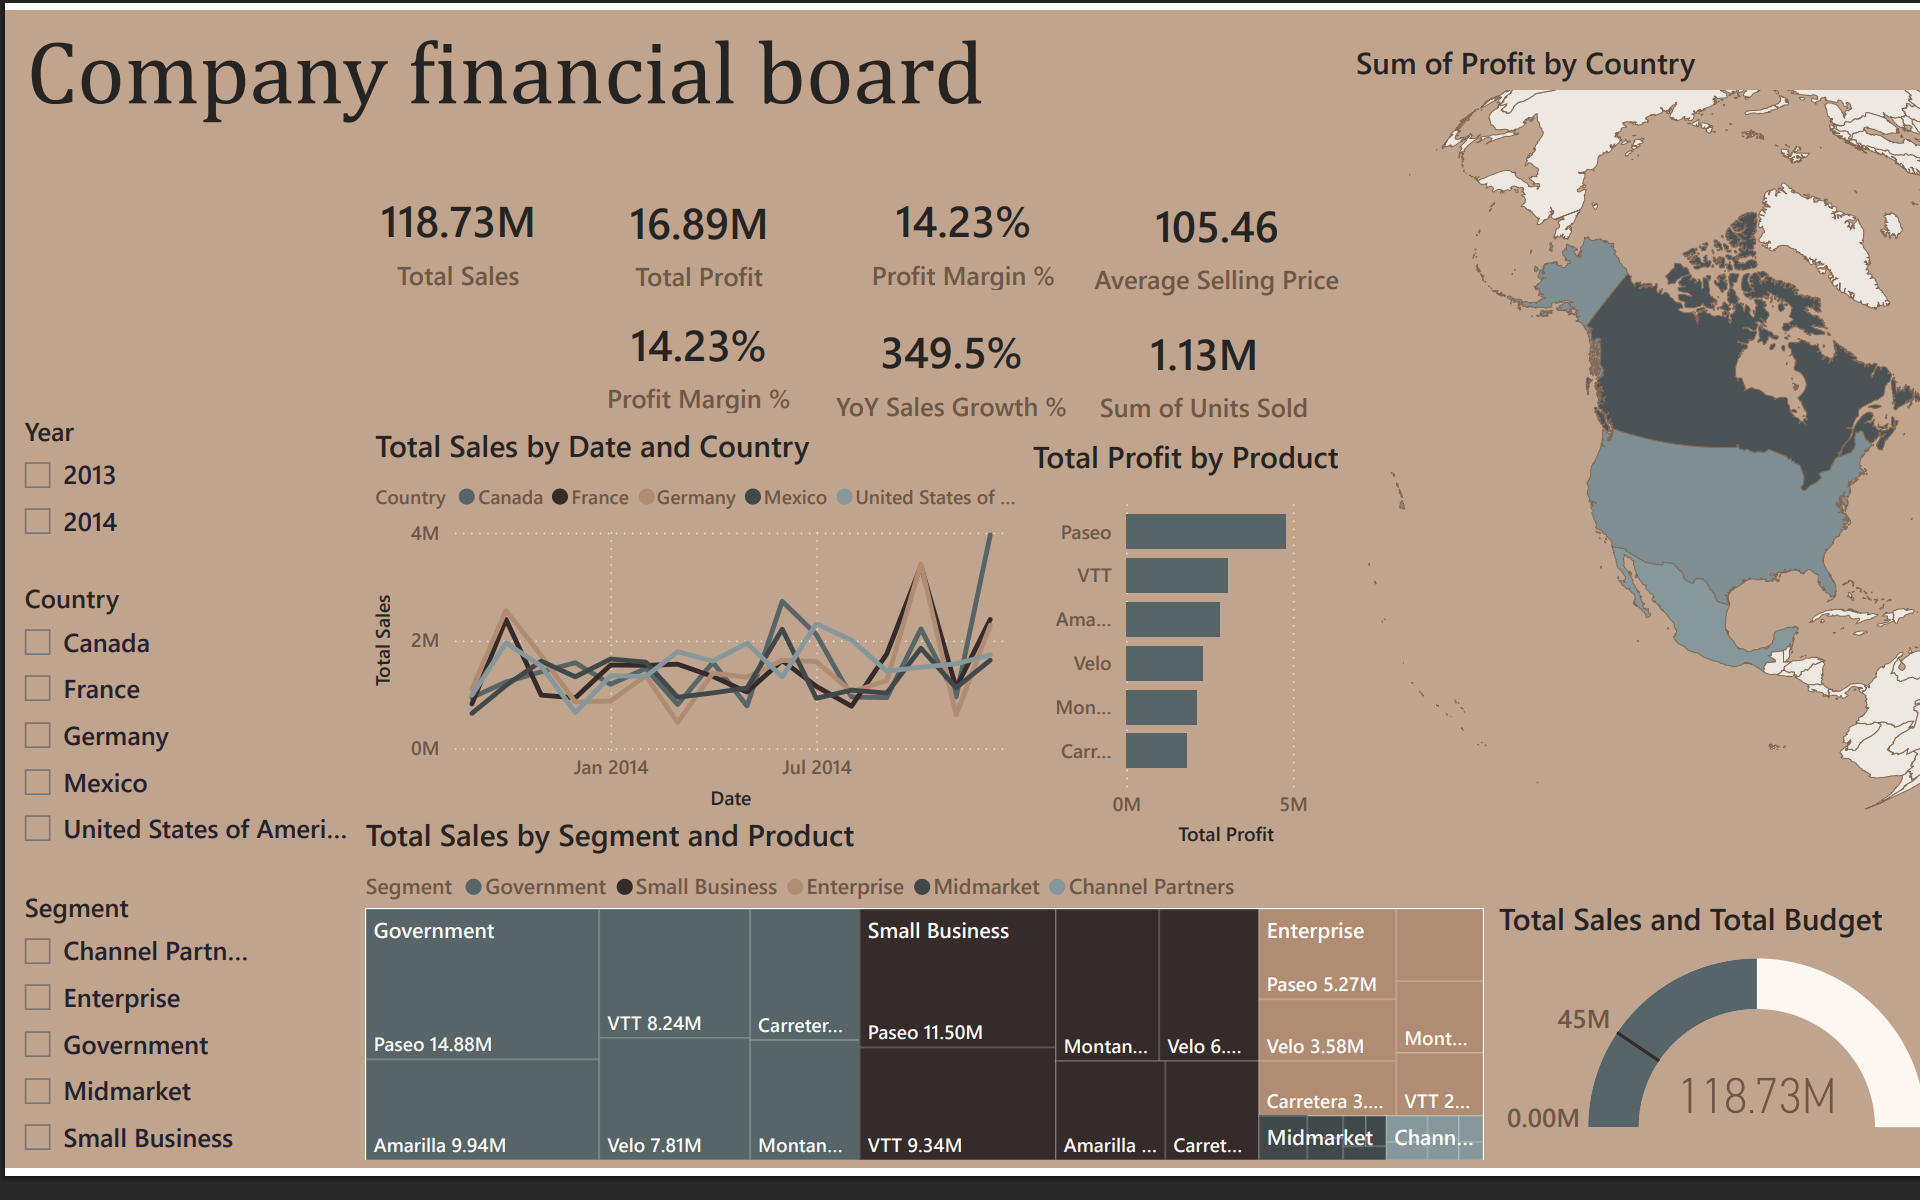

Layout of this report page (visuals, bound fields, positions):
{"tool":"powerbi","page":{"name":"Page 1","canvas":[1280,720],"ordinal":0},"visuals":[{"type":"textbox","box":[9.4,0,914.1,92.9],"z":0},{"type":"slicer","fields":{"Values":["Calendar.Year"]},"box":[0,246.2,180.7,114],"z":1000},{"type":"slicer","fields":{"Values":["financials.Country"]},"box":[0,350,220.2,179.5],"z":2000},{"type":"slicer","fields":{"Values":["financials.Segment"]},"box":[0,542,160.3,178.4],"z":3000},{"type":"card","fields":{"Values":["financials.Total Sales"]},"box":[220.2,105,125.3,75.7],"z":4000},{"type":"card","fields":{"Values":["financials.Total Profit"]},"box":[341,102.8,182.9,81.3],"z":5000},{"type":"card","fields":{"Values":["financials.Profit Margin %"]},"box":[507,106.1,179.5,73.4],"z":6000},{"type":"card","fields":{"Values":["financials.YoY Sales Growth %"]},"box":[507,184.1,164.9,80.2],"z":7000},{"type":"gauge","fields":{"Y":["financials.Total Sales"],"TargetValue":["financials.Total Budget"]},"box":[924.7,551.8,348.2,160],"z":8000},{"type":"lineChart","fields":{"Category":["Calendar.Date"],"Y":["financials.Total Sales"],"Series":["financials.Country"]},"box":[225.7,258.3,414.4,243.6],"z":9000},{"type":"shapeMap","fields":{"Category":["financials.Country"],"Value":["Sum(financials.Profit)"]},"box":[836.2,20,443.9,481.9],"z":10000},{"type":"treemap","fields":{"Values":["financials.Total Sales"],"Group":["financials.Segment"],"Details":["financials.Product"]},"box":[220,500,704.7,220],"z":11000},{"type":"barChart","fields":{"Category":["financials.Product"],"Y":["financials.Total Profit"]},"box":[634.8,264.7,201.4,259.4],"z":12000},{"type":"card","fields":{"Values":["Sum(financials.Units Sold)"]},"box":[671.8,186.3,149,77.9],"z":13000},{"type":"card","fields":{"Values":["financials.Profit Margin %"]},"box":[364.7,184.1,134.4,71.1],"z":14000},{"type":"card","fields":{"Values":["financials.Average Selling Price"]},"box":[671.8,106.1,164.9,79],"z":15000}]}

Visuals, with their boxes on the page's 1280x720 design canvas (x1, y1, x2, y2). These are canvas units, not pixel positions in the 1920x1200 screenshot, which may show the page scaled, cropped or inside an application window:
textbox: [left=9, top=0, right=924, bottom=93]
slicer - Calendar.Year: [left=0, top=246, right=181, bottom=360]
slicer - financials.Country: [left=0, top=350, right=220, bottom=530]
slicer - financials.Segment: [left=0, top=542, right=160, bottom=720]
card - financials.Total Sales: [left=220, top=105, right=346, bottom=181]
card - financials.Total Profit: [left=341, top=103, right=524, bottom=184]
card - financials.Profit Margin %: [left=507, top=106, right=686, bottom=180]
card - financials.YoY Sales Growth %: [left=507, top=184, right=672, bottom=264]
gauge - financials.Total Sales x financials.Total Budget: [left=925, top=552, right=1273, bottom=712]
lineChart - Calendar.Date x financials.Total Sales: [left=226, top=258, right=640, bottom=502]
shapeMap - financials.Country x Sum(financials.Profit): [left=836, top=20, right=1280, bottom=502]
treemap - financials.Total Sales x financials.Segment: [left=220, top=500, right=925, bottom=720]
barChart - financials.Product x financials.Total Profit: [left=635, top=265, right=836, bottom=524]
card - Sum(financials.Units Sold): [left=672, top=186, right=821, bottom=264]
card - financials.Profit Margin %: [left=365, top=184, right=499, bottom=255]
card - financials.Average Selling Price: [left=672, top=106, right=837, bottom=185]
